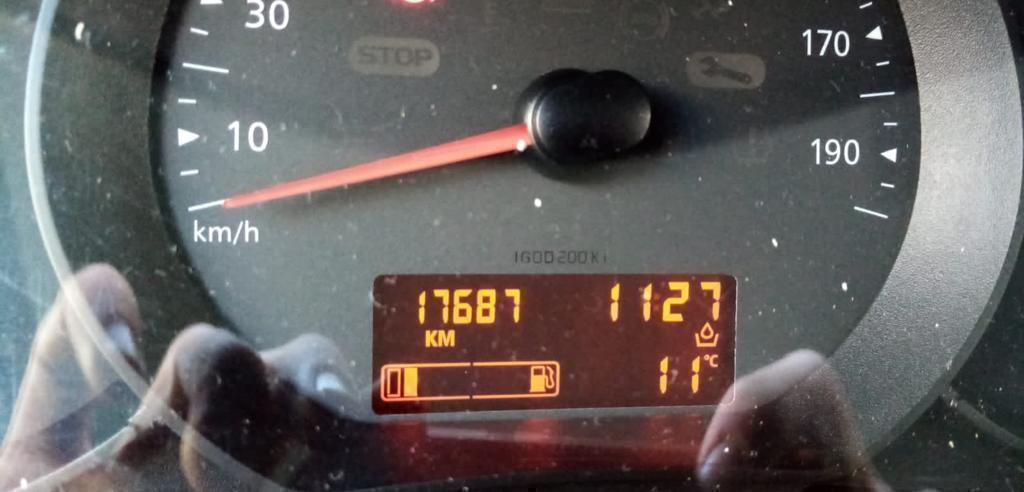1: (607, 278, 625, 324), (654, 351, 671, 397), (639, 278, 656, 324), (415, 283, 429, 326), (688, 354, 701, 395)
2: (662, 278, 692, 323)
6: (453, 285, 474, 325)
7: (698, 279, 725, 321), (502, 283, 525, 324), (431, 285, 452, 324)
8: (476, 286, 498, 325)
X: (438, 328, 455, 348), (424, 327, 438, 349), (709, 350, 720, 369)
odometer: (366, 269, 739, 418)
